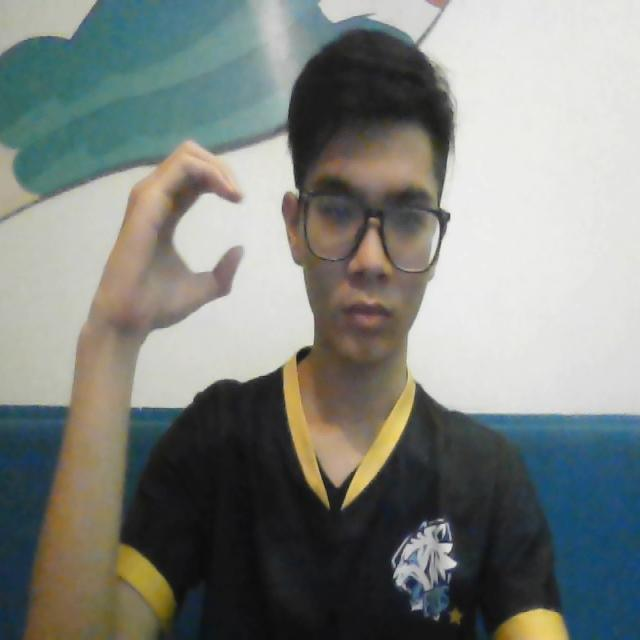C: (120, 138, 260, 322)
